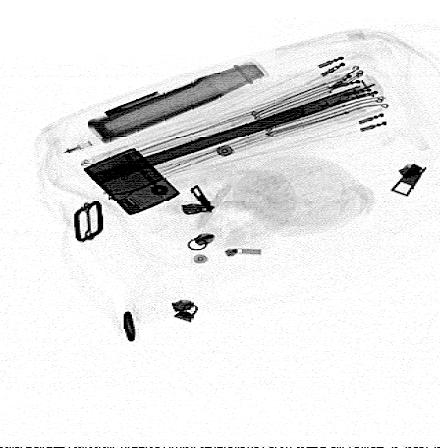Lighter: (82, 147, 182, 216)
